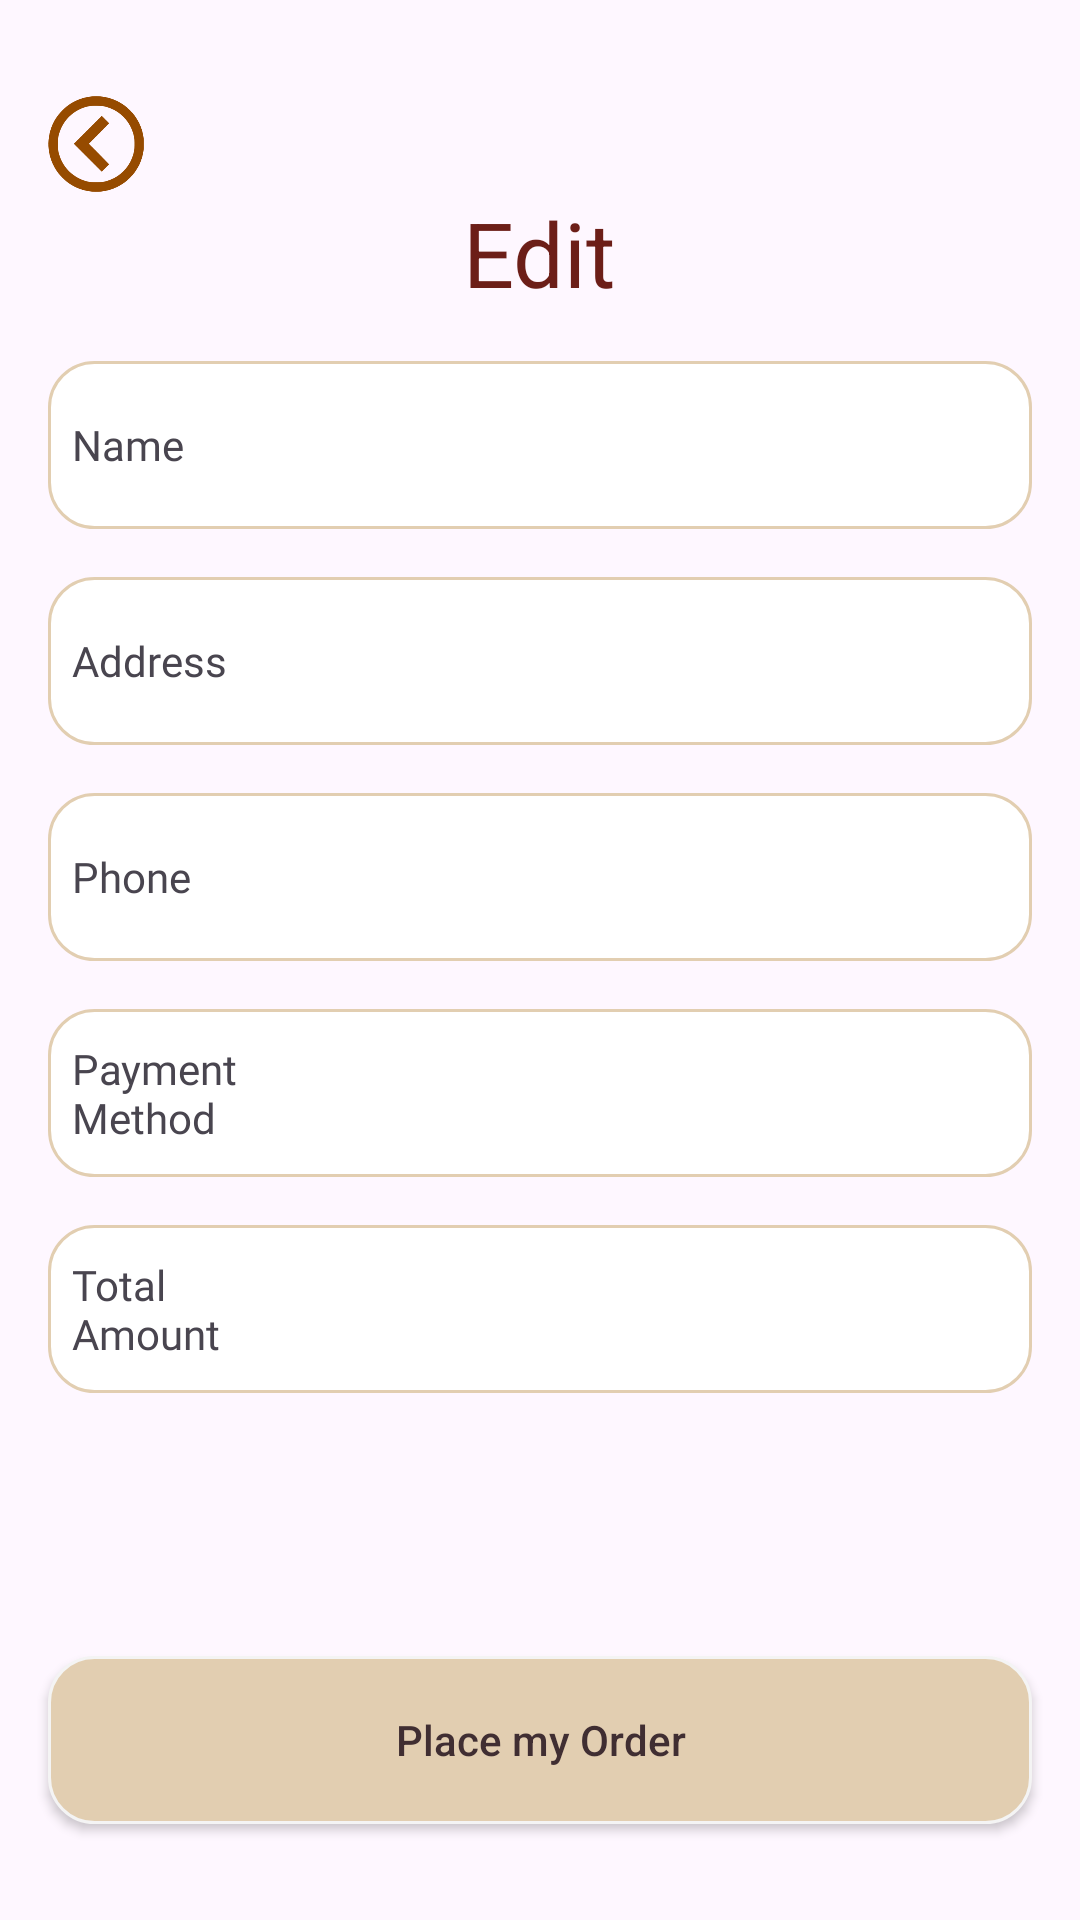

Where to tap for icons on this 1080px x 1920px app screen, as point (x, y):
leftarrow: point (96, 144)
